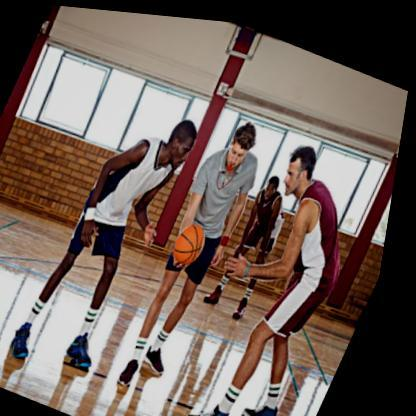basketball: (174, 216, 218, 264)
